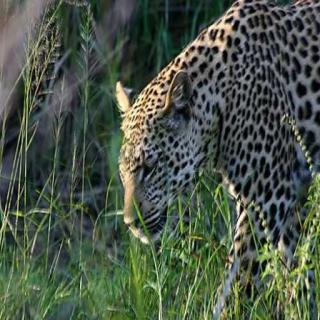Leopard: (106, 0, 320, 320)
